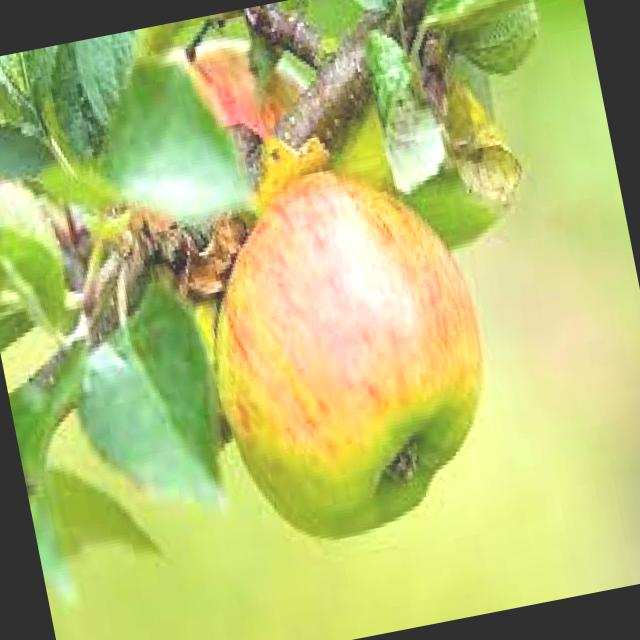Apple: (179, 144, 514, 556), (144, 21, 320, 184)
